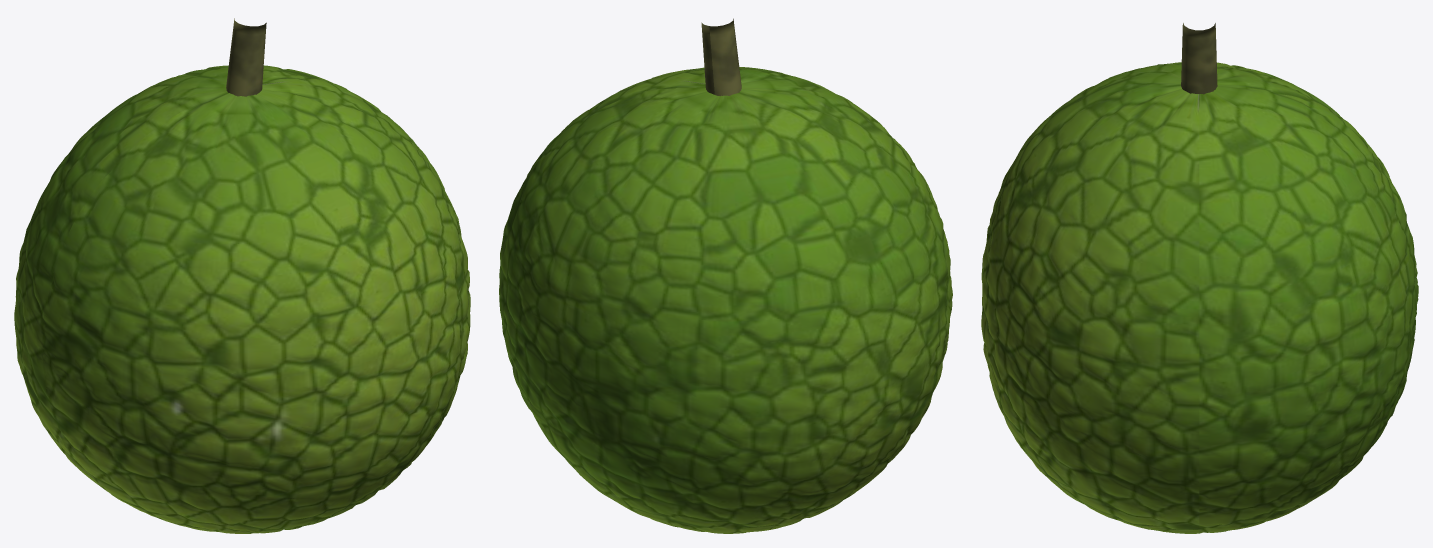
Rendered from fruit-a-pain.glb.
3 renders of one model, left to right at view 1: azimuth 30°, elevation 25°; view 2: azimuth 150°, elevation 25°; view 3: azimuth 270°, elevation 25°, orthographic.
Visible parts, largest first — view 1: entier_peau, moitie_A_peau, moitie_B_peau, entier_extra0; view 2: entier_peau, moitie_B_peau, moitie_A_peau, entier_extra0; view 3: entier_peau, moitie_A_peau, moitie_B_peau, entier_extra0.
Boxes of the visible parts, x1,y1,x2,y2 form: entier_peau: (14, 65, 470, 533); moitie_A_peau: (42, 81, 470, 533); moitie_B_peau: (14, 65, 380, 477); entier_extra0: (226, 18, 266, 96); entier_peau: (499, 67, 952, 533); moitie_B_peau: (499, 83, 924, 533); moitie_A_peau: (595, 67, 952, 474); entier_extra0: (701, 18, 741, 95); entier_peau: (981, 62, 1418, 533); moitie_A_peau: (982, 62, 1199, 533); moitie_B_peau: (1199, 62, 1418, 533); entier_extra0: (1181, 23, 1217, 94).
Bounding box in the file's own units: 0.1986 × 0.2332 × 0.187.
3 materials, 3 textured.
